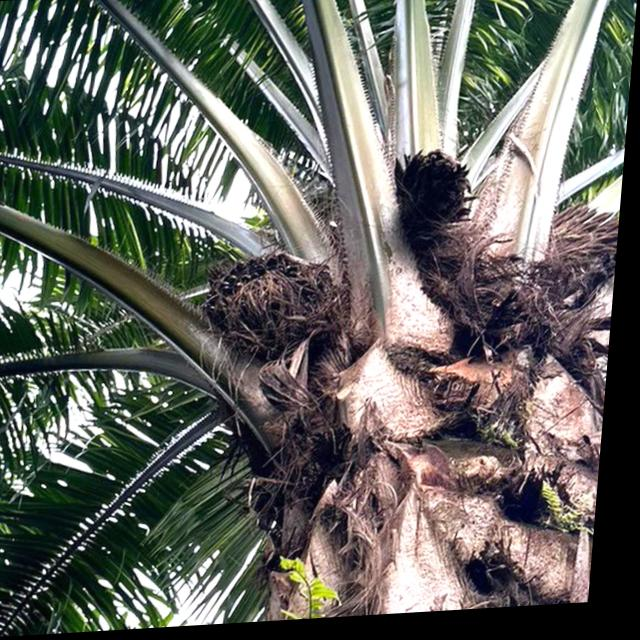almost: (206, 243, 346, 377)
